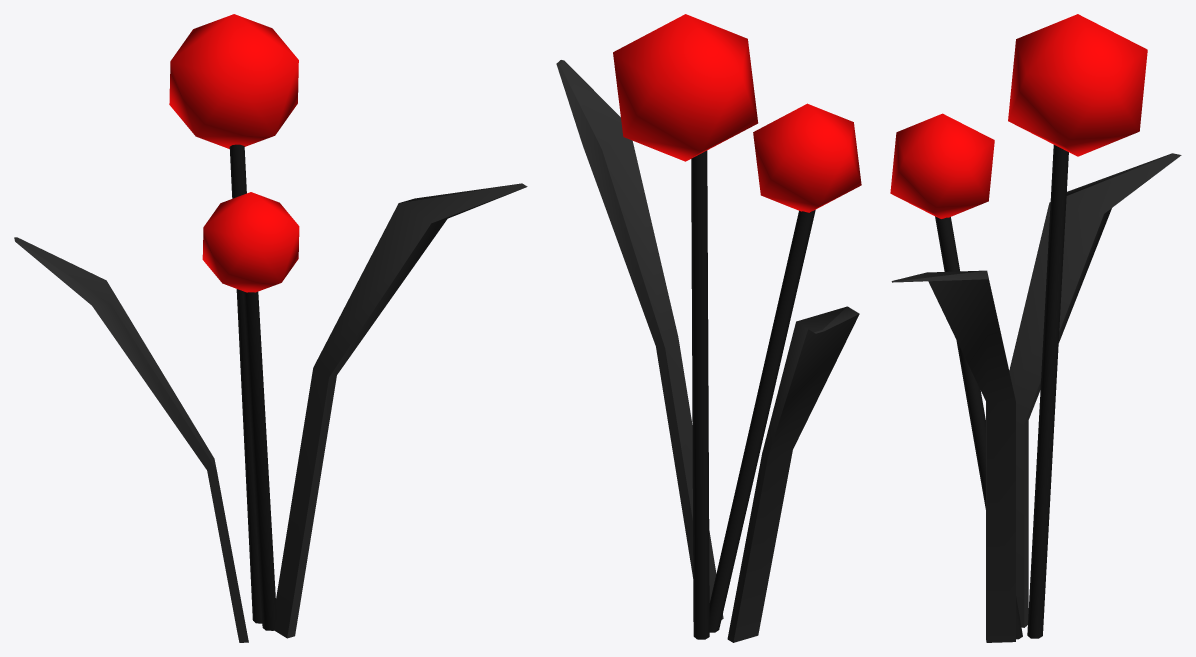
The model's file is Flowers.fbx.
3 renders of one model, left to right at view 1: azimuth 30°, elevation 25°; view 2: azimuth 150°, elevation 25°; view 3: azimuth 270°, elevation 25°, orthographic. The views are drawn at different scales.
Parts seen in each view (by area): view 1: Object011; view 2: Object011; view 3: Object011.
Boxes of the visible parts, x1=… form: Object011: x1=14, y1=14, x2=527, y2=642; Object011: x1=556, y1=14, x2=861, y2=642; Object011: x1=890, y1=14, x2=1181, y2=642.
Size of the model in its own units: 45.61 by 68.5 by 29.13.
